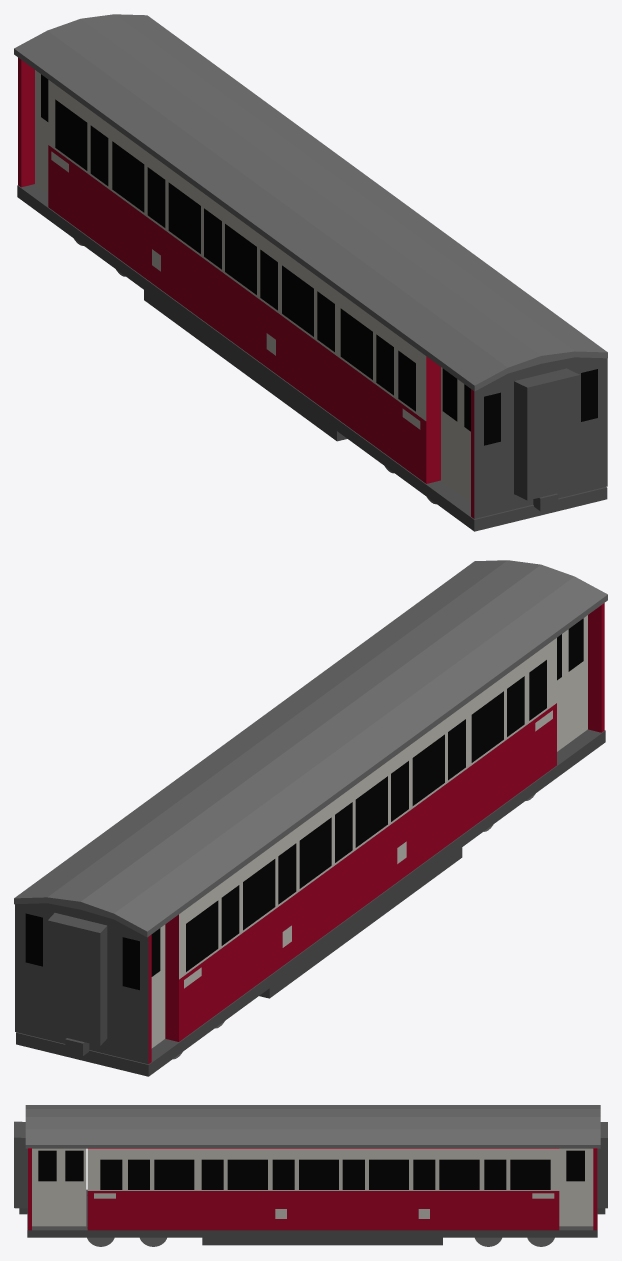
File: fr-superbarn-red-cream.dae
3 views of the same model, one above another, from view 1: azimuth 30°, elevation 25°; view 2: azimuth 150°, elevation 25°; view 3: azimuth 270°, elevation 25° (orthographic). The views are drawn at different scales.
Visible parts, largest first — view 1: Cube_005, Cube_004, Cube_011, Plane_002, Cube_012, Cube_010, Plane_002_002, Cube_007, Plane_238, Plane_231, Plane_239, Plane_242 (+13 smaller); view 2: Cube_005, Cube_004, Cube_007, Plane_002, Cube_013, Cube_010, Plane_002_002, Cube_011, Plane_242, Plane_239, Plane_238, Plane_234 (+13 smaller); view 3: Cube_004, Cube_005, Plane_002, Cube_010, Cube_008, Plane_002_002, Plane_029, Plane_220, Plane_228, Plane_225, Plane_224, Plane_221 (+18 smaller).
Boxes of the visible parts, box(x1,y1,x2,y2) form: Cube_005: box(14, 14, 607, 391); Cube_004: box(48, 80, 440, 483); Cube_011: box(471, 357, 607, 518); Plane_002: box(17, 184, 607, 531); Cube_012: box(514, 368, 579, 500); Cube_010: box(441, 367, 470, 502); Plane_002_002: box(144, 290, 347, 441); Cube_007: box(18, 57, 34, 187); Plane_238: box(168, 182, 200, 253); Plane_231: box(340, 308, 372, 379); Plane_239: box(112, 141, 144, 212); Plane_242: box(55, 99, 87, 170); Cube_005: box(14, 560, 607, 937); Cube_004: box(165, 638, 556, 1041); Cube_007: box(15, 903, 151, 1064); Plane_002: box(16, 729, 605, 1076); Cube_013: box(47, 913, 107, 1045); Cube_010: box(557, 615, 587, 751); Plane_002_002: box(259, 847, 462, 998); Cube_011: box(588, 603, 604, 732); Plane_242: box(186, 900, 218, 971); Plane_239: box(243, 859, 275, 930); Plane_238: box(299, 817, 331, 888); Plane_234: box(412, 734, 444, 805); Cube_004: box(87, 1148, 559, 1230); Cube_005: box(25, 1105, 600, 1148); Plane_002: box(27, 1189, 597, 1237); Cube_010: box(32, 1148, 86, 1226); Cube_008: box(559, 1148, 593, 1226); Plane_002_002: box(202, 1237, 442, 1245); Plane_029: box(439, 1159, 479, 1189); Plane_220: box(510, 1159, 550, 1189); Plane_228: box(154, 1159, 194, 1189); Plane_225: box(227, 1159, 267, 1189); Plane_224: box(299, 1159, 338, 1189); Plane_221: box(369, 1159, 408, 1189).
Bounding box in the file's own units: 1.25 × 7.63 × 1.58.
